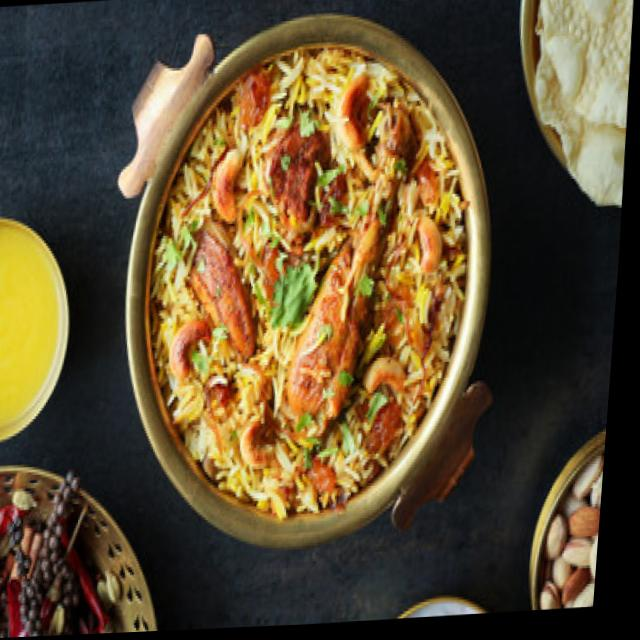BIRIYANI: (128, 45, 484, 537)
